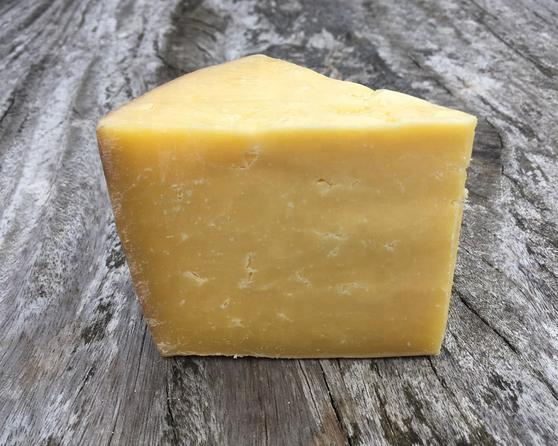cheese: (99, 53, 483, 358)
